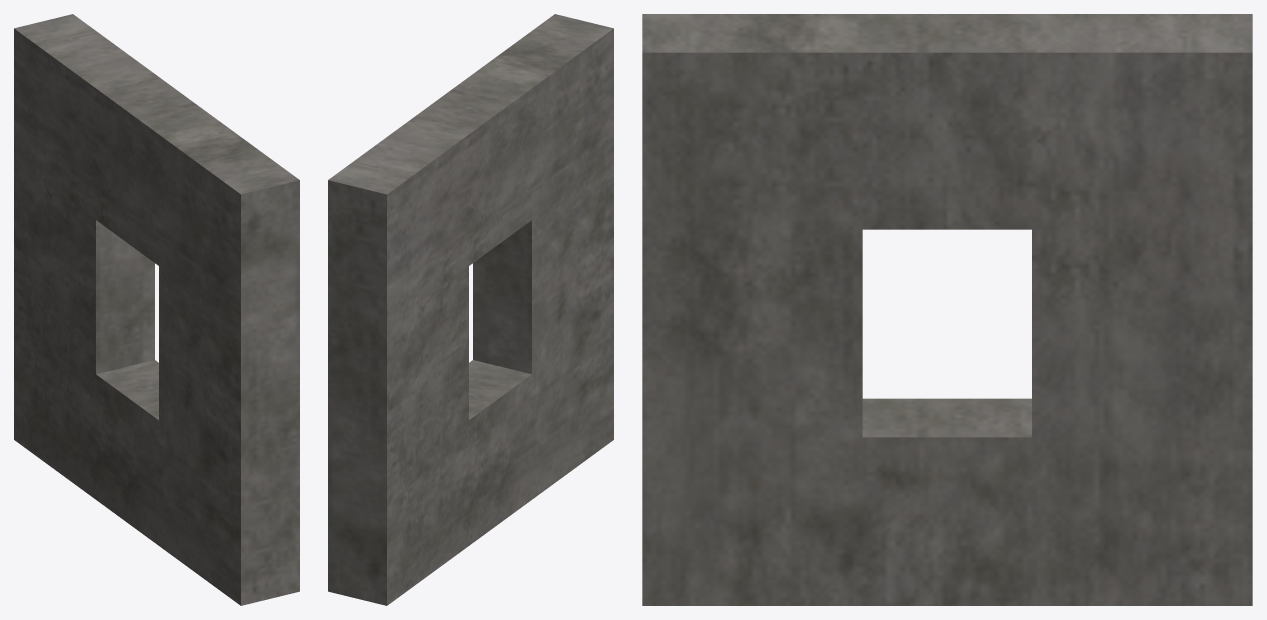
The model's file is mWallWindowConcrete02.obj.
3 views of the same model, side by side, from view 1: azimuth 30°, elevation 25°; view 2: azimuth 150°, elevation 25°; view 3: azimuth 270°, elevation 25° (orthographic). The views are drawn at different scales.
Parts seen in each view (by area): view 1: WallWindowConcrete02; view 2: WallWindowConcrete02; view 3: WallWindowConcrete02.
Boxes of the visible parts, left/top/right/bottom form: WallWindowConcrete02: left=14, top=14, right=299, bottom=605; WallWindowConcrete02: left=328, top=14, right=613, bottom=605; WallWindowConcrete02: left=642, top=14, right=1252, bottom=605.
Size of the model in its own units: 0.6 by 4 by 4.
